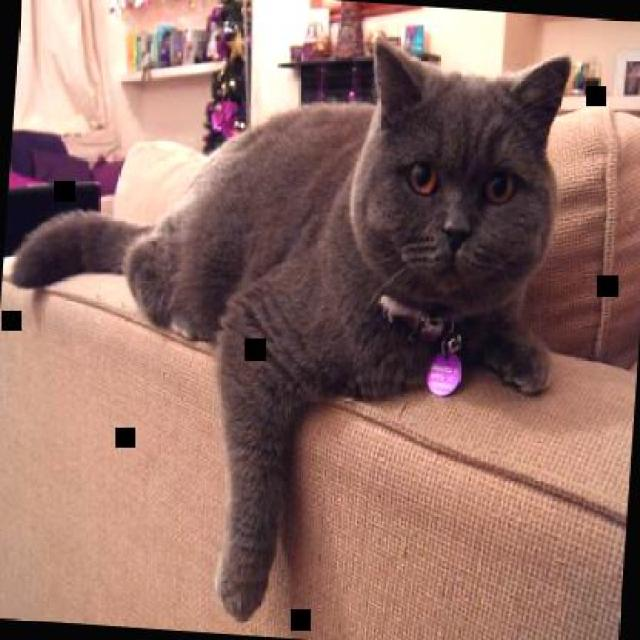cat: (0, 7, 575, 638)
